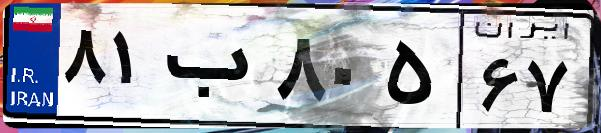0: (330, 28, 385, 110)
1: (110, 28, 158, 98)
5: (385, 28, 445, 110)
6: (475, 38, 525, 113)
7: (525, 38, 570, 115)
8: (270, 28, 330, 110), (57, 26, 110, 100)
ب: (158, 20, 270, 120)
